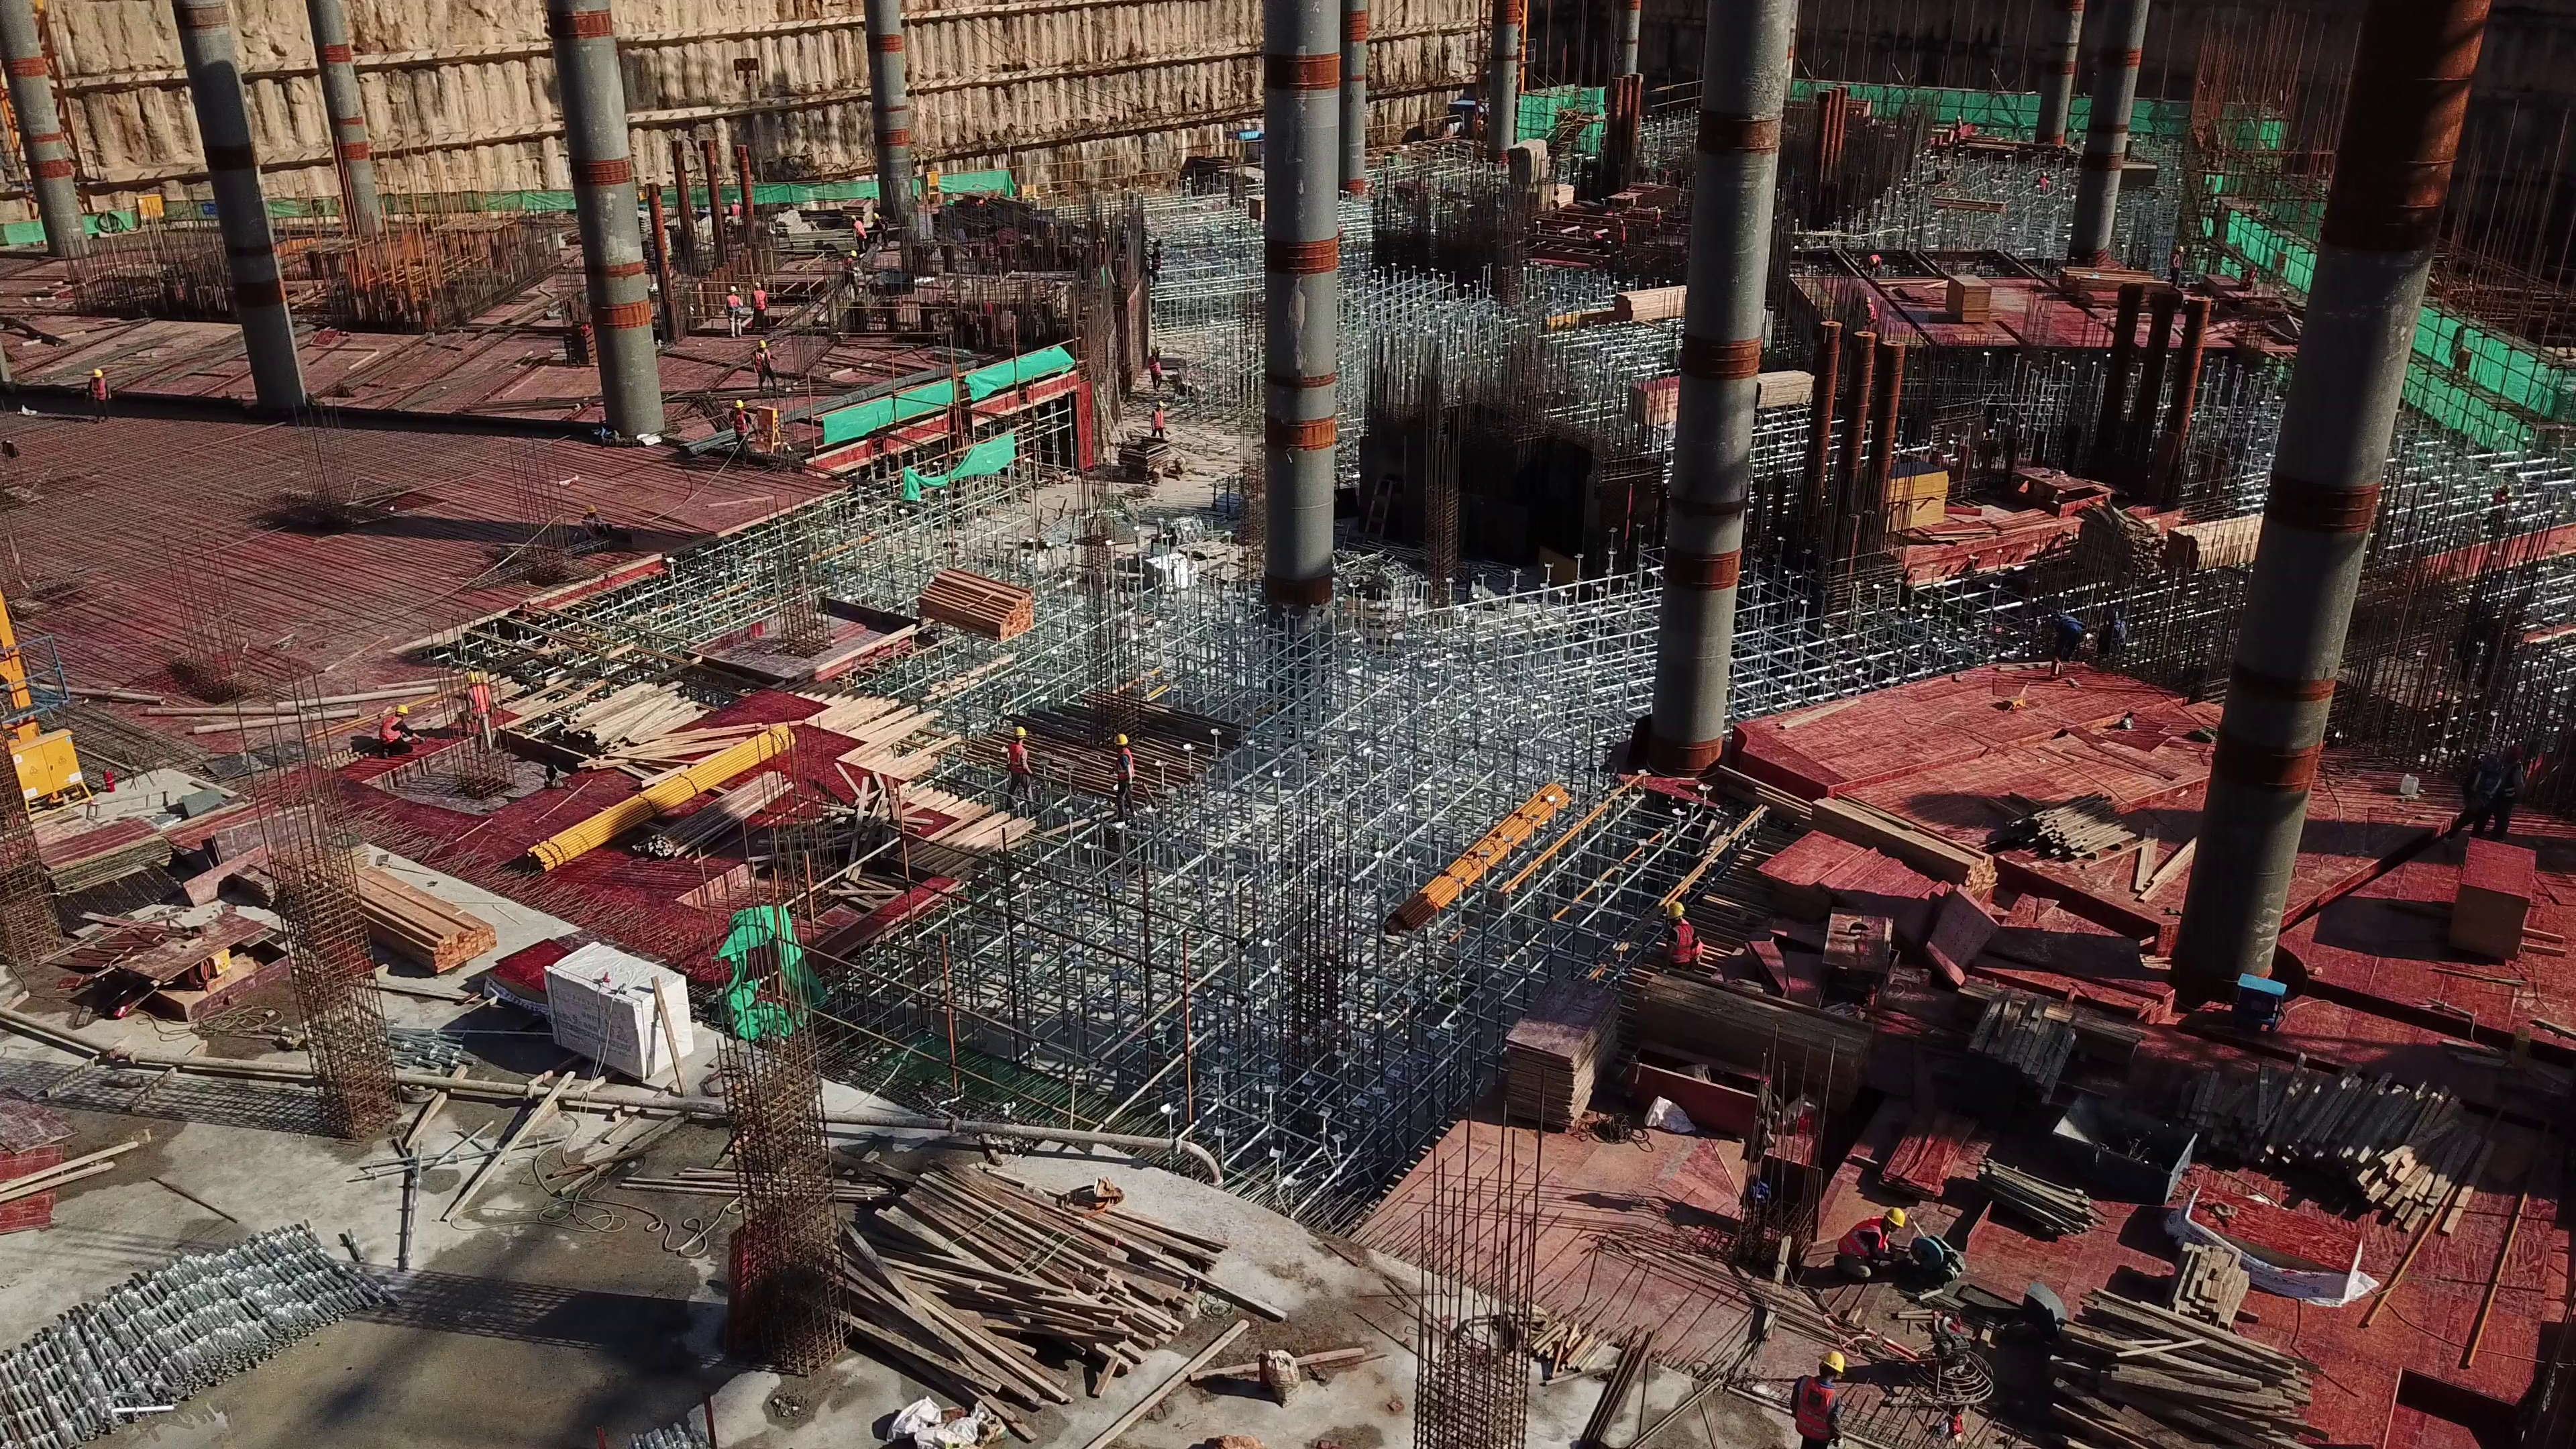board: (1505, 969, 1615, 1136), (1, 810, 194, 879), (2443, 835, 2540, 947), (169, 804, 318, 866), (1632, 373, 1680, 431), (1953, 270, 1994, 327)
cutter: (1911, 1235, 1967, 1291)
ebox: (1, 720, 105, 806), (752, 400, 786, 453)
helmet: (1811, 1348, 1854, 1375), (1884, 1205, 1909, 1232), (1666, 902, 1682, 919), (465, 668, 479, 685), (1110, 735, 1127, 748), (733, 398, 746, 410), (394, 704, 409, 716), (1013, 726, 1024, 740), (756, 341, 768, 350), (91, 368, 103, 378)
person: (1786, 1348, 1845, 1449), (1833, 1209, 1911, 1272), (455, 667, 496, 759), (1105, 733, 1135, 832), (1001, 726, 1036, 811), (1665, 903, 1704, 974), (2460, 755, 2491, 842), (2495, 746, 2523, 837), (374, 706, 419, 755), (2039, 608, 2078, 658), (80, 368, 113, 426), (2101, 610, 2129, 661), (729, 400, 753, 452), (722, 284, 745, 340), (753, 341, 777, 389), (1146, 402, 1169, 444), (749, 277, 766, 333), (1146, 346, 1164, 392), (1147, 240, 1161, 288), (851, 216, 869, 252), (2169, 246, 2184, 290), (1948, 113, 1964, 151), (871, 213, 889, 245), (2240, 266, 2258, 292), (2033, 170, 2049, 199), (1863, 252, 1882, 272), (724, 201, 743, 219)
scaffold: (1, 1210, 372, 1449)
vest: (1793, 1381, 1845, 1444), (1829, 1222, 1894, 1261), (1667, 923, 1695, 963), (1005, 739, 1030, 773), (463, 685, 490, 716), (1114, 749, 1134, 784), (376, 716, 401, 741), (733, 414, 750, 437), (89, 378, 105, 400), (753, 289, 769, 309), (724, 294, 739, 317)
wood: (839, 1177, 1238, 1397), (2202, 1065, 2498, 1222), (2051, 1285, 2321, 1449), (303, 842, 480, 985), (2011, 797, 2209, 918), (1941, 987, 2095, 1108), (910, 572, 1029, 663), (568, 683, 690, 767), (2161, 519, 2267, 583), (1611, 287, 1694, 324)
